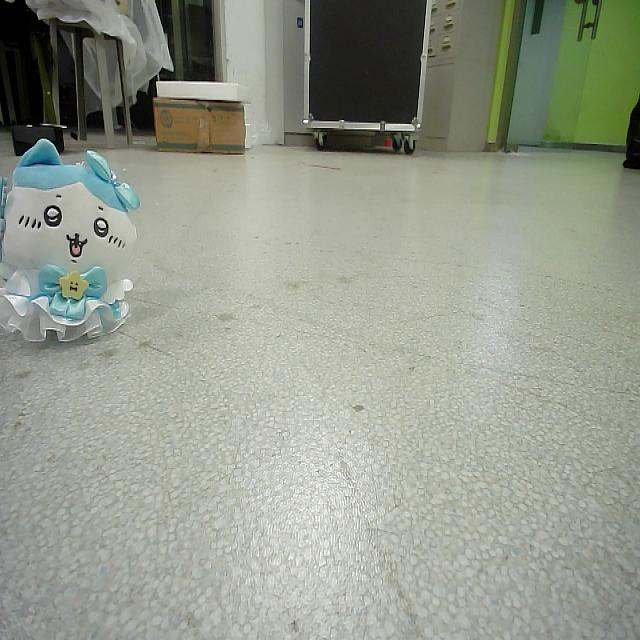xiaoba: (1, 136, 143, 351)
